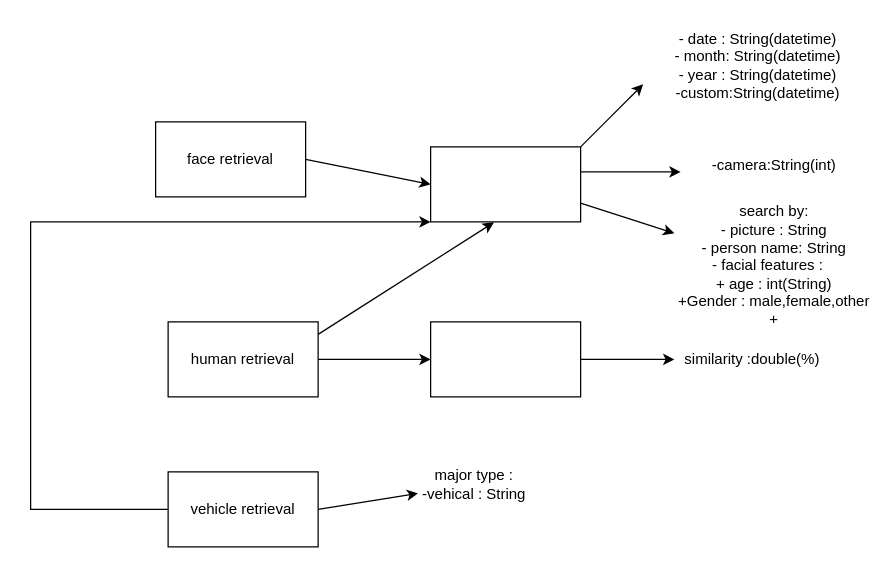
The diagram is 896 pixels wide and 569 high, and some of its shapes have lost their labels. Here are the shapes that lost their labels. From the top down, the box of each, then its label:
(429, 146, 581, 222): search
(429, 321, 581, 397): upload image(String)
